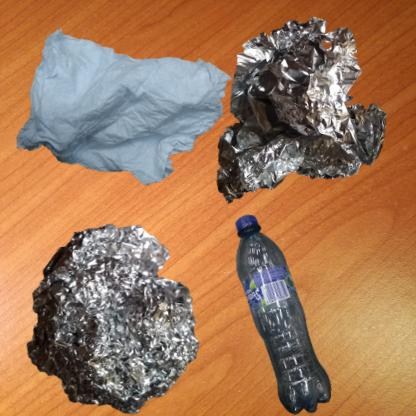aluminio: (10, 213, 211, 416), (213, 10, 396, 216)
botella: (213, 213, 358, 416)
papel: (10, 10, 262, 226)
